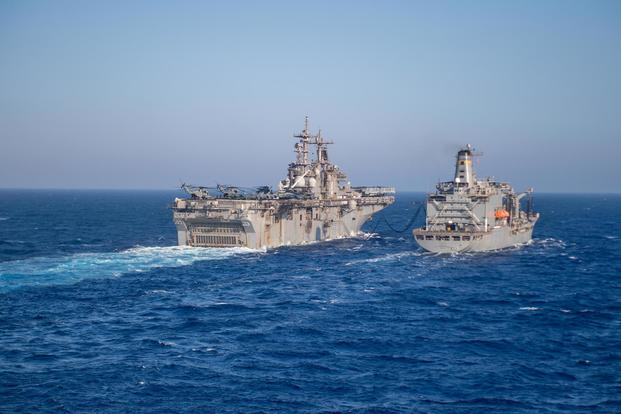rust: (260, 223, 274, 246), (298, 221, 313, 240)
